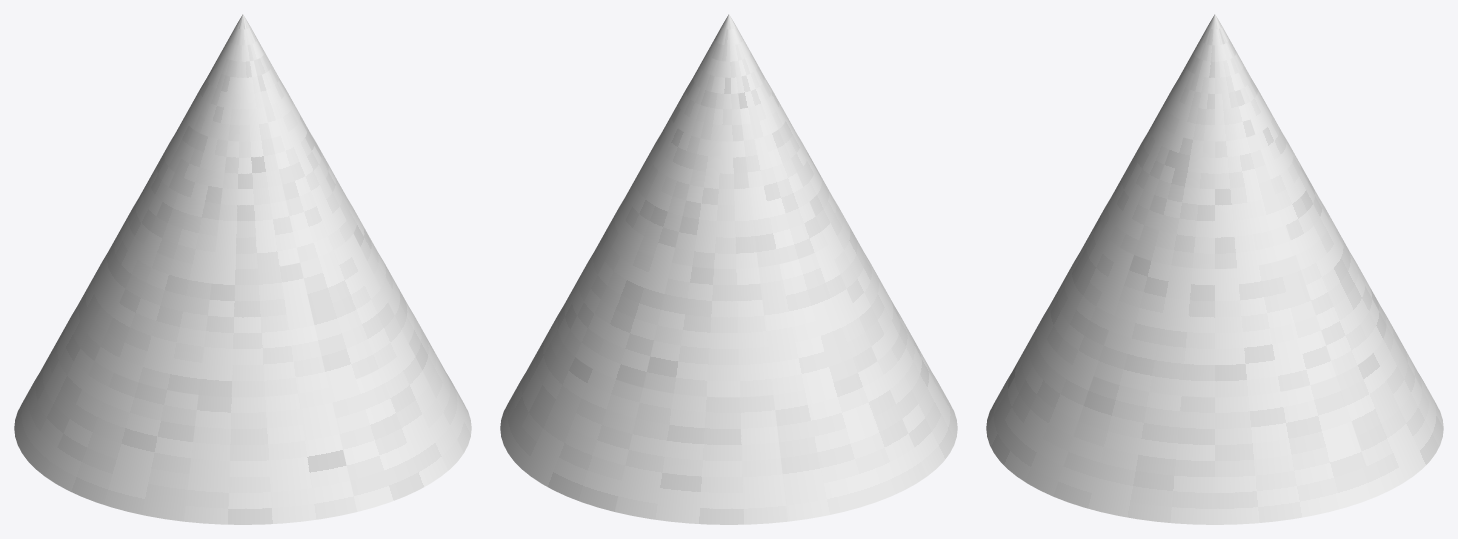
The model's file is Mountain.dae.
3 renders of one model, left to right at view 1: azimuth 30°, elevation 25°; view 2: azimuth 150°, elevation 25°; view 3: azimuth 270°, elevation 25°, orthographic.
Parts seen in each view (by area): view 1: Cone; view 2: Cone; view 3: Cone.
Part boxes in pixels (x1=…): Cone: x1=14, y1=14, x2=471, y2=524; Cone: x1=500, y1=14, x2=957, y2=524; Cone: x1=986, y1=14, x2=1443, y2=524.
Bounding box in the file's own units: 0.0533 × 0.0533 × 0.0533.
Materials: 2 (2 with a texture image).
